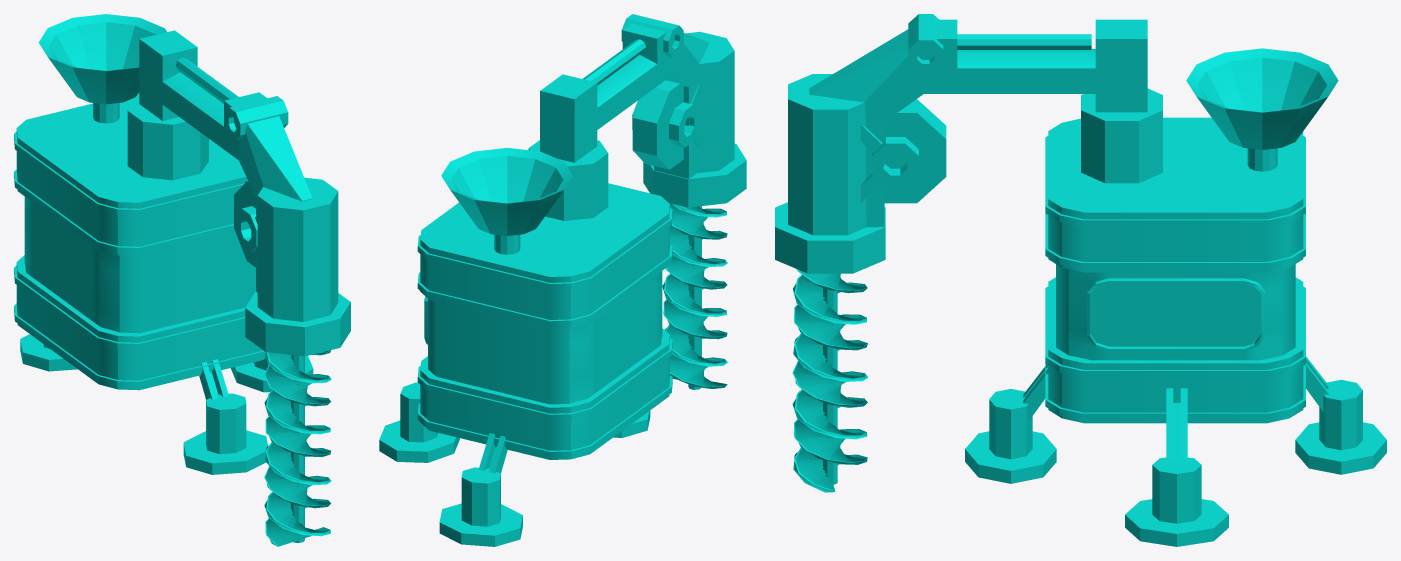
The model's file is Mdl_SolidExtractorHolograma.fbx.
3 renders of one model, left to right at view 1: azimuth 30°, elevation 25°; view 2: azimuth 150°, elevation 25°; view 3: azimuth 270°, elevation 25°, orthographic. The views are drawn at different scales.
Visible parts, largest first — view 1: extractorSolid_holograma; view 2: extractorSolid_holograma; view 3: extractorSolid_holograma.
Boxes of the visible parts, x1,y1,x2,y2 form: extractorSolid_holograma: (14,14,350,546); extractorSolid_holograma: (379,14,746,546); extractorSolid_holograma: (775,14,1386,546).
Bounding box in the file's own units: 7.13 × 10.97 × 13.36.
